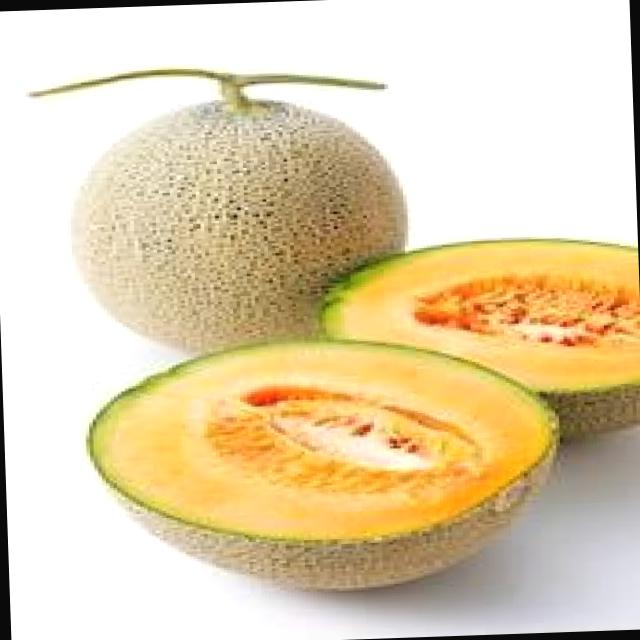cantaloupe: (82, 328, 567, 602), (26, 57, 416, 356), (319, 232, 640, 448)
